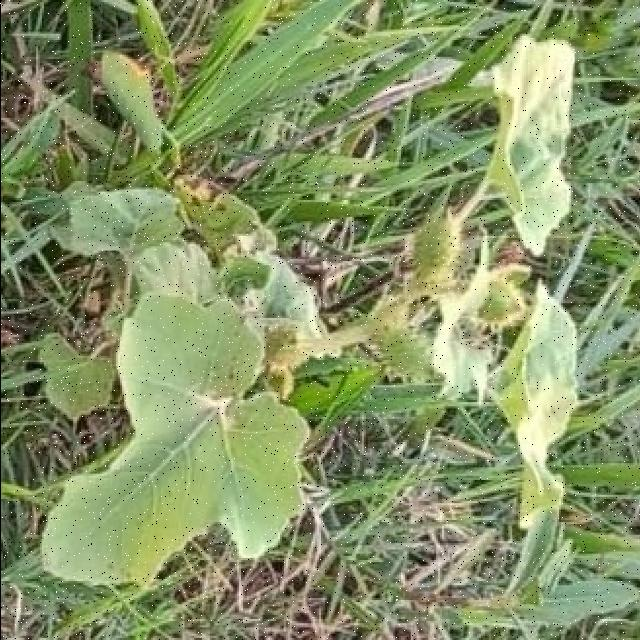weed: (36, 40, 576, 587), (99, 28, 219, 161)
